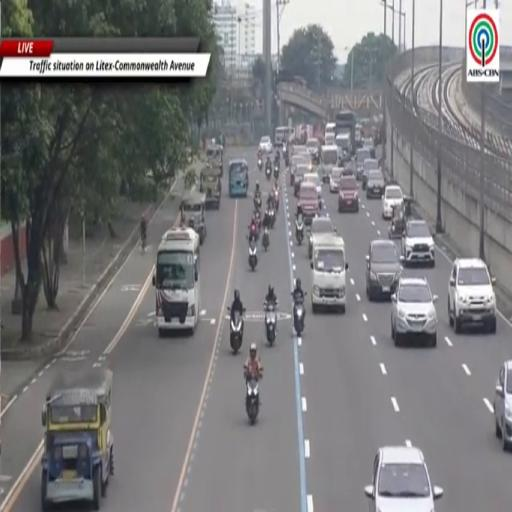bus: (153, 228, 200, 335), (335, 111, 356, 154), (274, 126, 293, 148)
car: (364, 445, 443, 511), (448, 259, 497, 333), (391, 278, 437, 347), (366, 239, 402, 300), (493, 360, 512, 451), (402, 219, 435, 266), (308, 217, 336, 259), (298, 182, 320, 226), (338, 176, 359, 212), (382, 185, 403, 219), (318, 146, 337, 183), (290, 155, 309, 185), (366, 170, 385, 199), (362, 158, 379, 189), (355, 148, 371, 180), (294, 164, 309, 198), (304, 172, 321, 199), (335, 134, 350, 163), (306, 138, 320, 163), (330, 168, 342, 193), (363, 137, 375, 157), (259, 136, 272, 153), (325, 134, 335, 145), (294, 146, 307, 154)
jeepney: (41, 367, 113, 511), (180, 190, 206, 244), (200, 166, 221, 210), (229, 159, 248, 197), (206, 144, 223, 177)
motorcycle: (246, 379, 259, 424), (230, 312, 243, 355), (265, 303, 277, 346), (292, 293, 304, 335), (249, 240, 257, 270), (296, 219, 303, 245), (254, 209, 262, 230), (262, 227, 269, 251), (268, 207, 276, 228), (249, 224, 258, 242), (274, 189, 279, 212), (254, 195, 261, 210), (265, 167, 271, 180), (274, 165, 279, 179), (258, 158, 262, 171)
truck: (311, 233, 348, 313)
